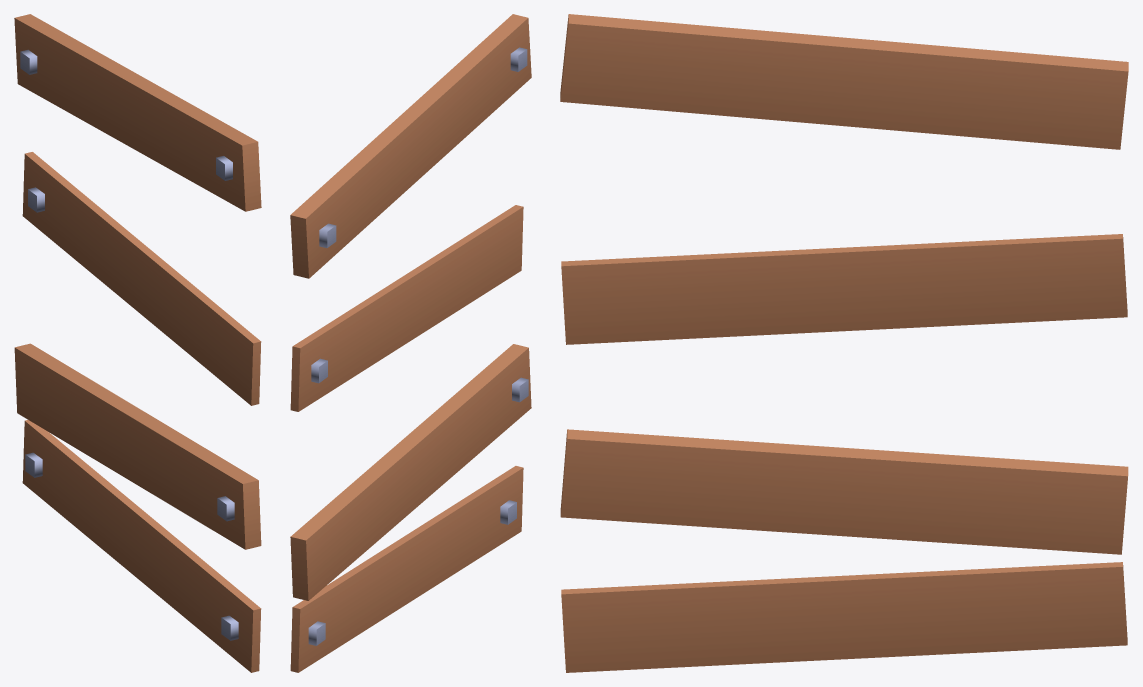
The model's file is building_barricade_qatdfgkdbk.glb.
The picture shows the model from 3 angles, left to right: view 1: azimuth 30°, elevation 25°; view 2: azimuth 150°, elevation 25°; view 3: azimuth 270°, elevation 25°; orthographic projection. The views are drawn at different scales.
Parts seen in each view (by area): view 1: barricade-doorway-b; view 2: barricade-doorway-b; view 3: barricade-doorway-b.
Boxes of the visible parts, x1,y1,x2,y2 form: barricade-doorway-b: (14,14,261,672); barricade-doorway-b: (290,14,531,672); barricade-doorway-b: (560,14,1128,672).
Size of the model in its own units: 0.075 by 1.58 by 1.26.
Materials: 1 (1 with a texture image).
